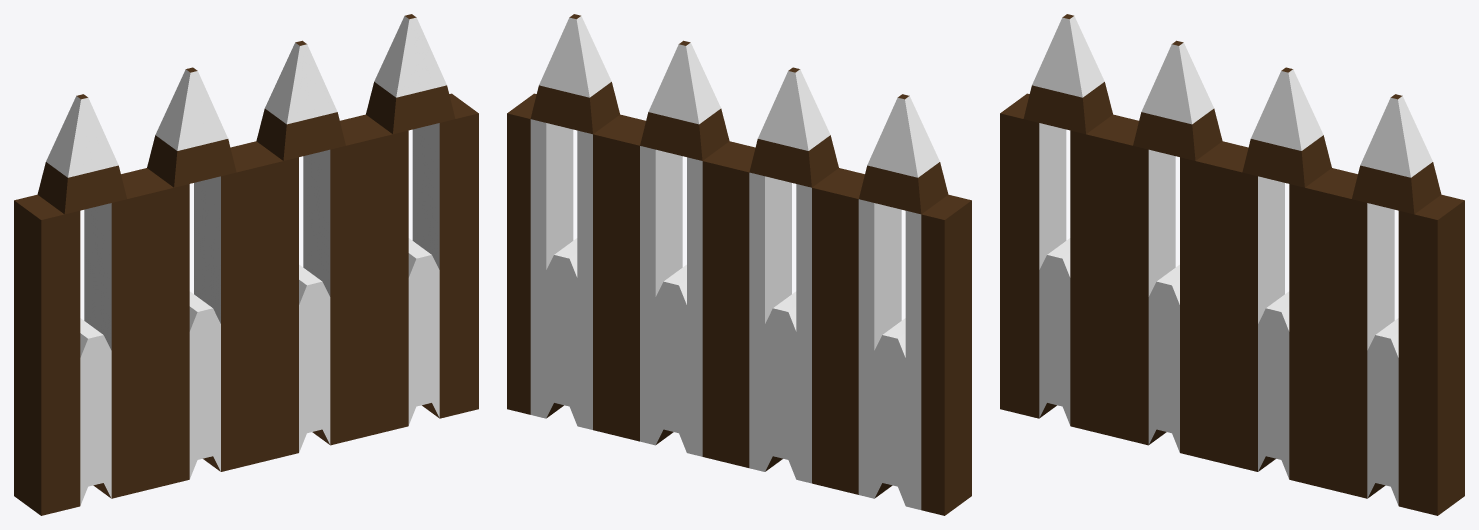
File: Fence.fbx
The picture shows the model from 3 angles, left to right: view 1: azimuth 30°, elevation 25°; view 2: azimuth 150°, elevation 25°; view 3: azimuth 330°, elevation 25°; orthographic projection.
Visible parts, largest first — view 1: Cube.001; view 2: Cube.001; view 3: Cube.001.
Part boxes in pixels (x1,y1,x2,y2): Cube.001: (14, 14, 478, 515); Cube.001: (507, 14, 971, 515); Cube.001: (1000, 14, 1464, 515).
Bounding box in the file's own units: 257 × 222 × 27.58.
